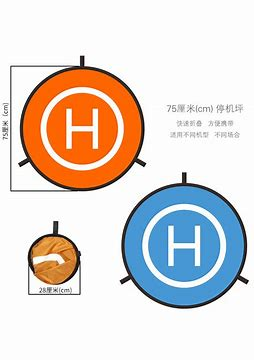H: (67, 109, 99, 150), (168, 226, 200, 267)
